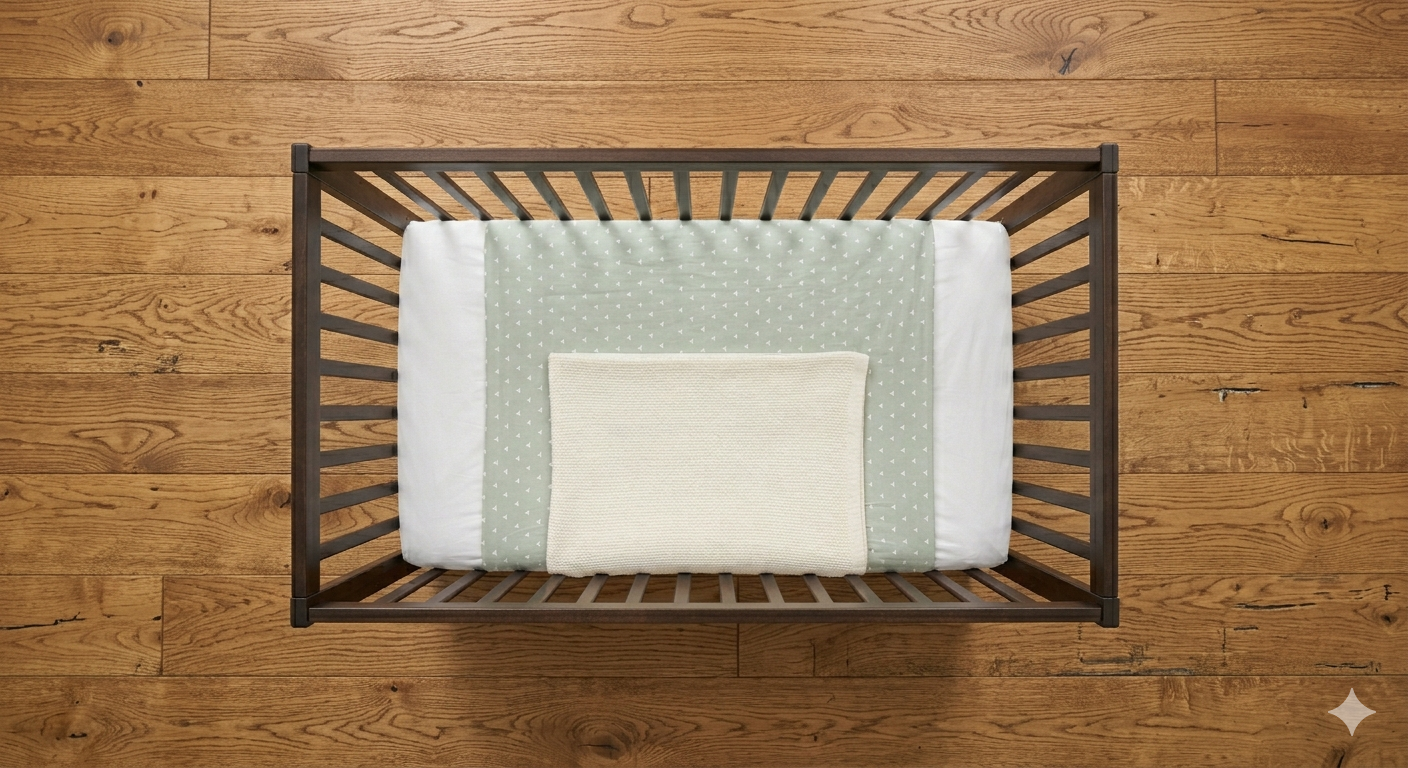crib: (323, 176, 1088, 579)
